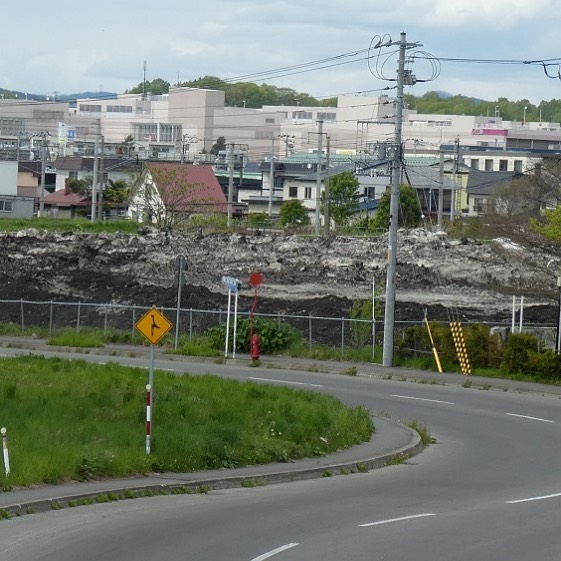building: (66, 86, 293, 152), (293, 151, 462, 225), (297, 90, 492, 146), (129, 155, 234, 230)
grass: (1, 363, 361, 474)
sky: (9, 1, 561, 85)
street: (11, 336, 561, 561)
